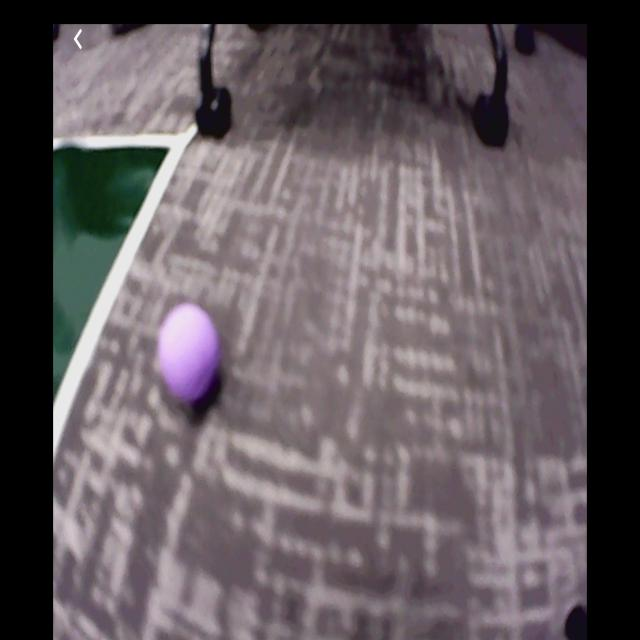ball: (158, 302, 220, 407)
